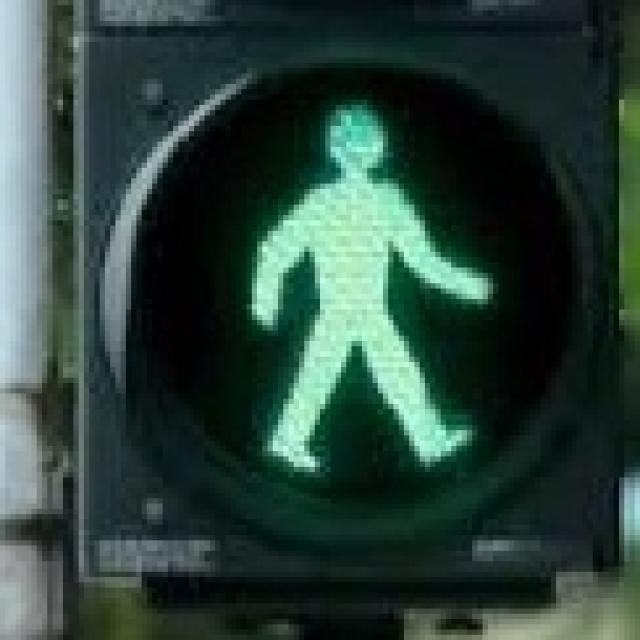green-light: (237, 80, 489, 489)
